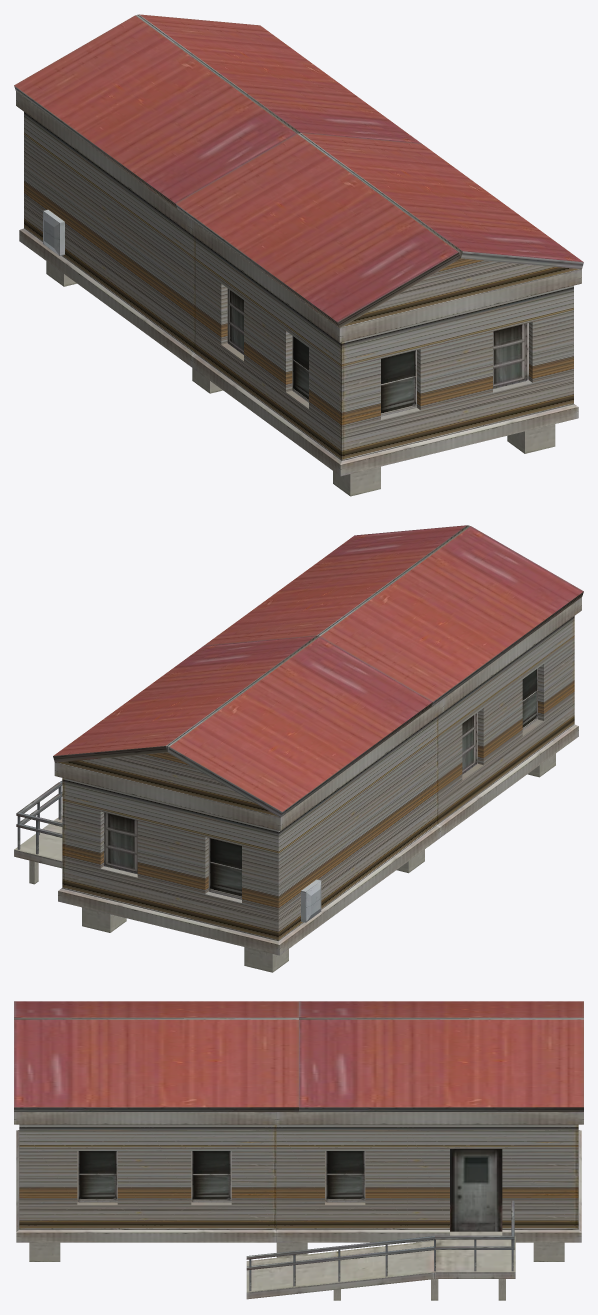
Rendered from rural-mobile-home.lod0.glb.
3 renders of one model, top to bottom at view 1: azimuth 30°, elevation 25°; view 2: azimuth 150°, elevation 25°; view 3: azimuth 270°, elevation 25°, orthographic. The views are drawn at different scales.
Visible parts, largest first — view 1: Rural_UnmobileHome_1_Rural_Trailer_Stuff_1_0, Rural_UnmobileHome_1_Rural_Facade_FLR_2_0; view 2: Rural_UnmobileHome_1_Rural_Trailer_Stuff_1_0, Rural_UnmobileHome_1_Rural_Facade_FLR_2_0; view 3: Rural_UnmobileHome_1_Rural_Trailer_Stuff_1_0, Rural_UnmobileHome_1_Rural_Facade_FLR_2_0.
Part boxes in pixels (x1,y1,x2,y2): Rural_UnmobileHome_1_Rural_Trailer_Stuff_1_0: (14,14,583,460); Rural_UnmobileHome_1_Rural_Facade_FLR_2_0: (16,92,581,496); Rural_UnmobileHome_1_Rural_Trailer_Stuff_1_0: (53,525,583,940); Rural_UnmobileHome_1_Rural_Facade_FLR_2_0: (14,597,581,972); Rural_UnmobileHome_1_Rural_Trailer_Stuff_1_0: (14,1001,583,1229); Rural_UnmobileHome_1_Rural_Facade_FLR_2_0: (14,1112,583,1300).
Size of the model in its own units: 6.64 by 4.39 by 11.38.
2 materials, 2 textured.
